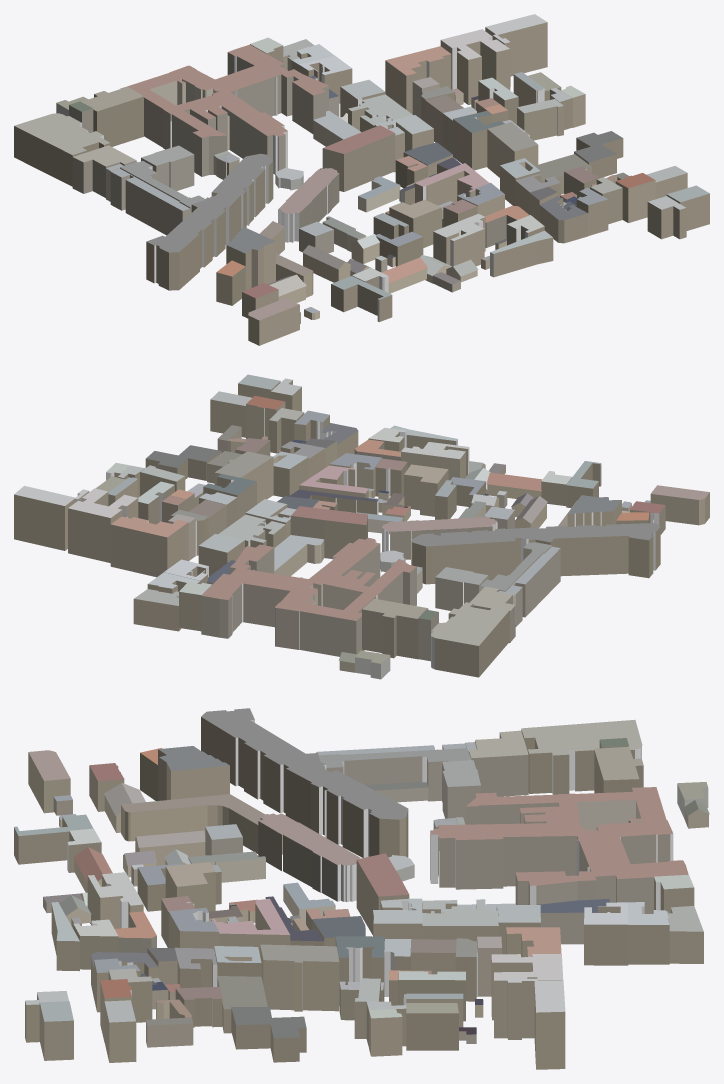
3 views of the same model, one above another, from view 1: azimuth 30°, elevation 25°; view 2: azimuth 150°, elevation 25°; view 3: azimuth 270°, elevation 25° (orthographic). The views are drawn at different scales.
Visible parts, largest first — view 1: tuile; view 2: tuile; view 3: tuile.
Boxes of the visible parts, <box> form: tuile: <box>14,14,709,345</box>; tuile: <box>14,374,709,679</box>; tuile: <box>14,708,709,1069</box>.
Size of the model in its own units: 284 by 31.03 by 261.
